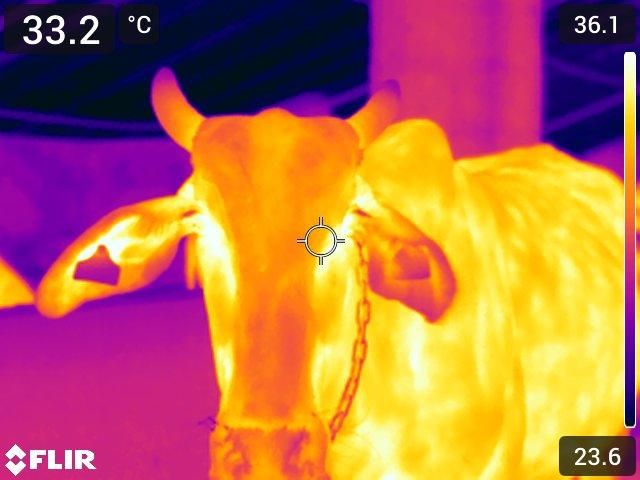ear: (32, 196, 184, 314), (360, 204, 460, 323)
